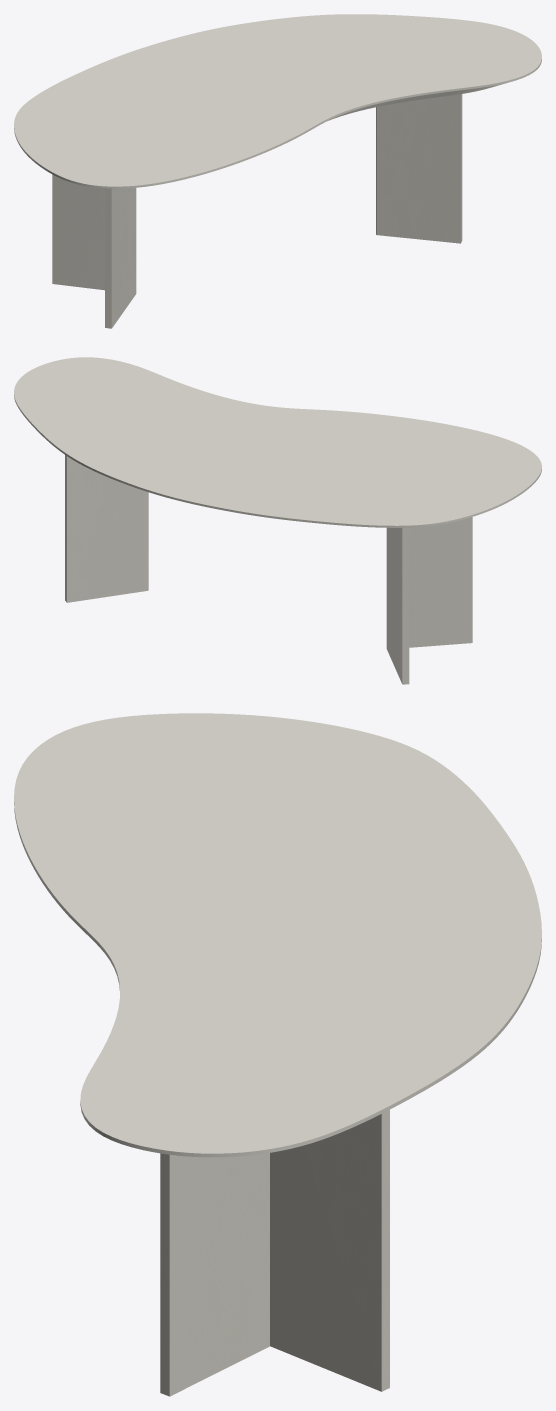
File: pale_leaf1_facet_valleyv.glb
3 views of the same model, one above another, from view 1: azimuth 30°, elevation 25°; view 2: azimuth 150°, elevation 25°; view 3: azimuth 270°, elevation 25° (orthographic). The views are drawn at different scales.
Parts seen in each view (by area): view 1: facet_leaf1, valleyv; view 2: facet_leaf1, valleyv; view 3: facet_leaf1, valleyv.
Boxes of the visible parts, x1,y1,x2,y2 form: facet_leaf1: [14, 14, 541, 188]; valleyv: [52, 94, 462, 328]; facet_leaf1: [14, 357, 541, 527]; valleyv: [65, 455, 472, 684]; facet_leaf1: [14, 713, 541, 1157]; valleyv: [160, 1109, 389, 1396].
Bounding box in the file's own units: 7.5 × 2.5 × 3.8.
1 material, 1 textured.
